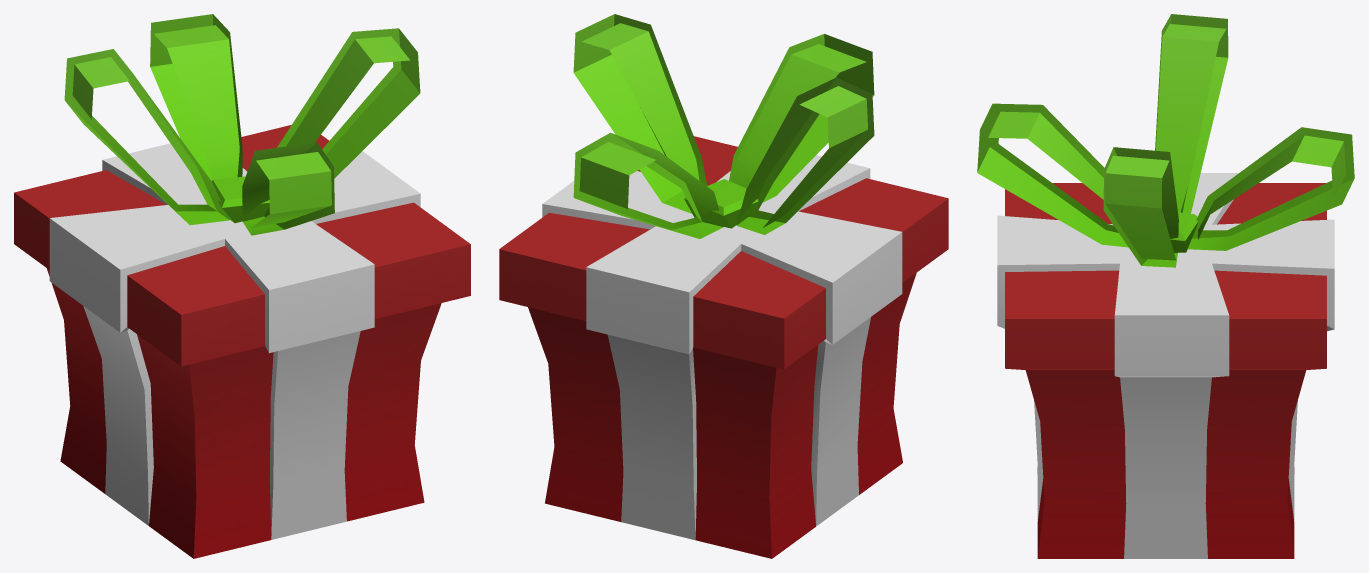
File: gift1.glb
3 renders of one model, left to right at view 1: azimuth 30°, elevation 25°; view 2: azimuth 150°, elevation 25°; view 3: azimuth 270°, elevation 25°, orthographic. The views are drawn at different scales.
Parts seen in each view (by area): view 1: Gift1; view 2: Gift1; view 3: Gift1.
Boxes of the visible parts, x1,y1,x2,y2 form: Gift1: (14, 14, 470, 558); Gift1: (499, 14, 948, 558); Gift1: (977, 14, 1354, 558).
Size of the model in its own units: 0.3289 by 0.4416 by 0.3585.
Materials: 1 (1 with a texture image).
